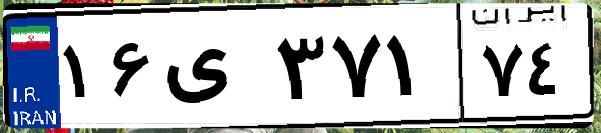1: (385, 28, 445, 110), (57, 26, 110, 100)
3: (270, 28, 330, 110)
4: (525, 38, 570, 115)
6: (110, 28, 158, 98)
7: (330, 28, 385, 110), (475, 38, 525, 113)
ی: (158, 20, 270, 120)
